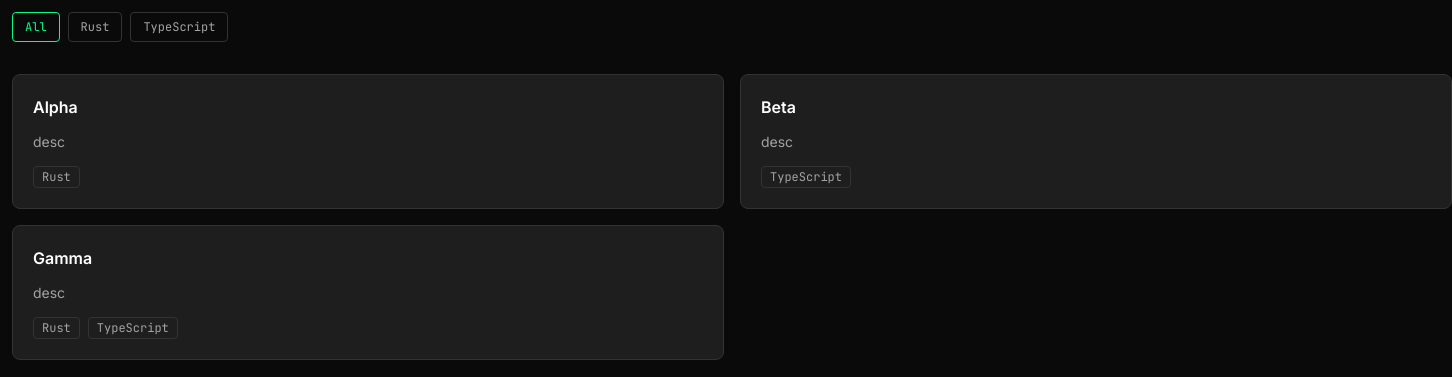
TagFilter › filters to Rust projects when Rust tag is clicked
The image size is (1452, 377).
What coordinates should you click on to do the following:
click the button "Rust"
I would click on:
 (95, 27)
Its box is x1=68 y1=12 x2=122 y2=42.
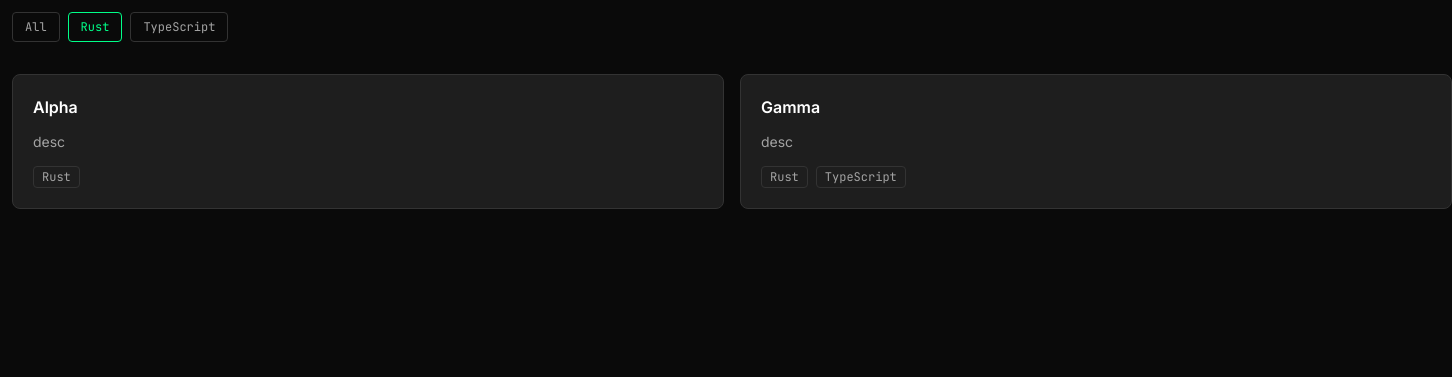
Expected: the link "Alpha" is shown, x1=33 y1=97 x2=78 y2=117
Expected: the link "Beta" is gone
